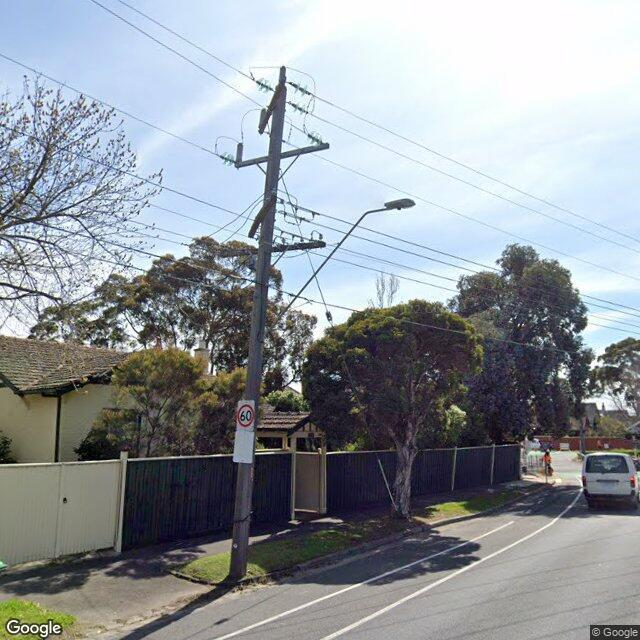HV-transmission: (219, 77, 324, 167), (236, 66, 286, 162)
crossarm: (234, 142, 330, 168), (221, 242, 326, 257), (259, 82, 284, 134), (248, 196, 276, 238)
streetlight: (260, 198, 416, 343)
timber-pole: (230, 86, 286, 580)
